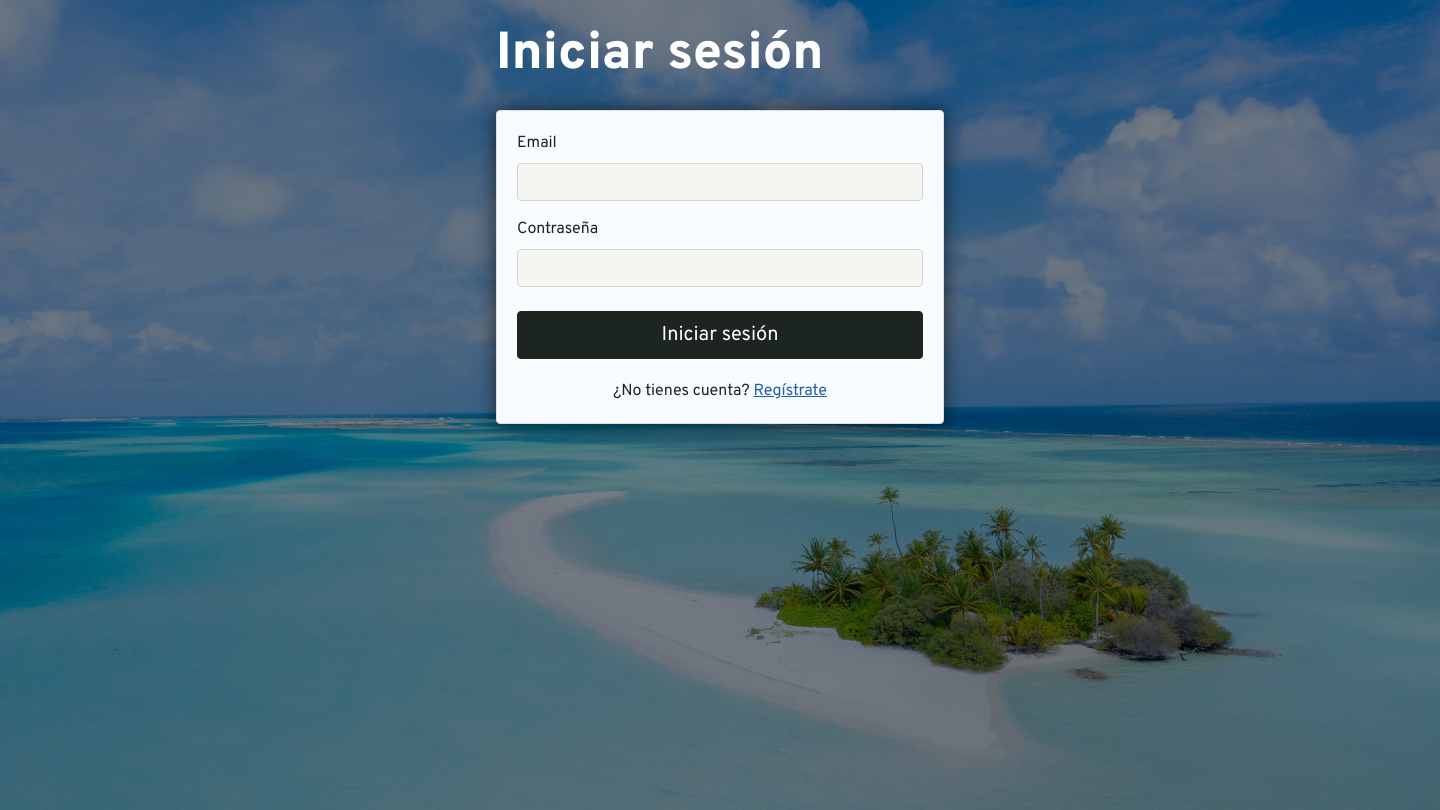
B2 LoginPage › an email without the right format is rejected before sending
Type "ana-sin-arroba" into the field labelled "Email". click: (720, 182)
box: [517, 163, 923, 201]
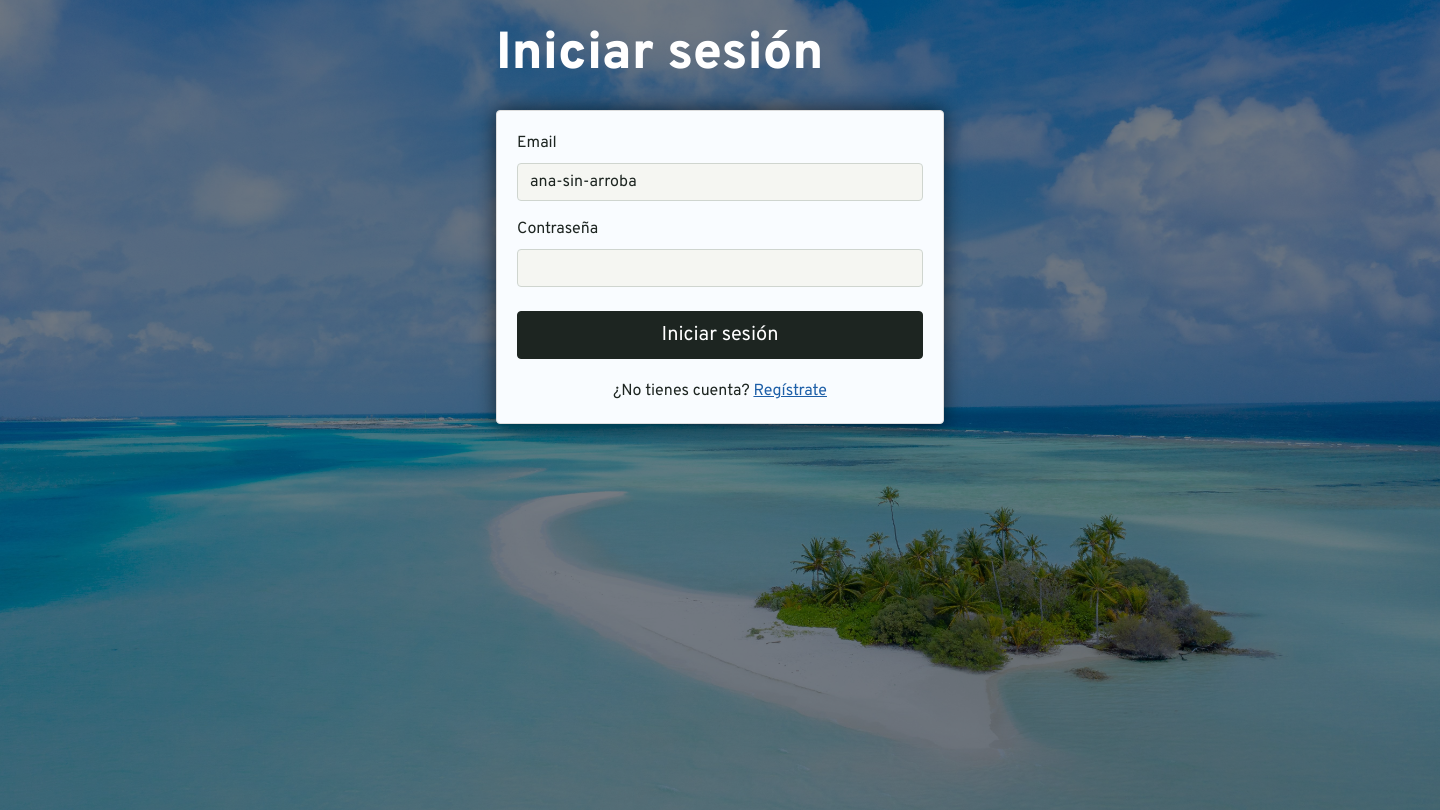
Type "secret-pass" into the password field labelled "Contraseña". click: (720, 268)
box: [517, 249, 923, 287]
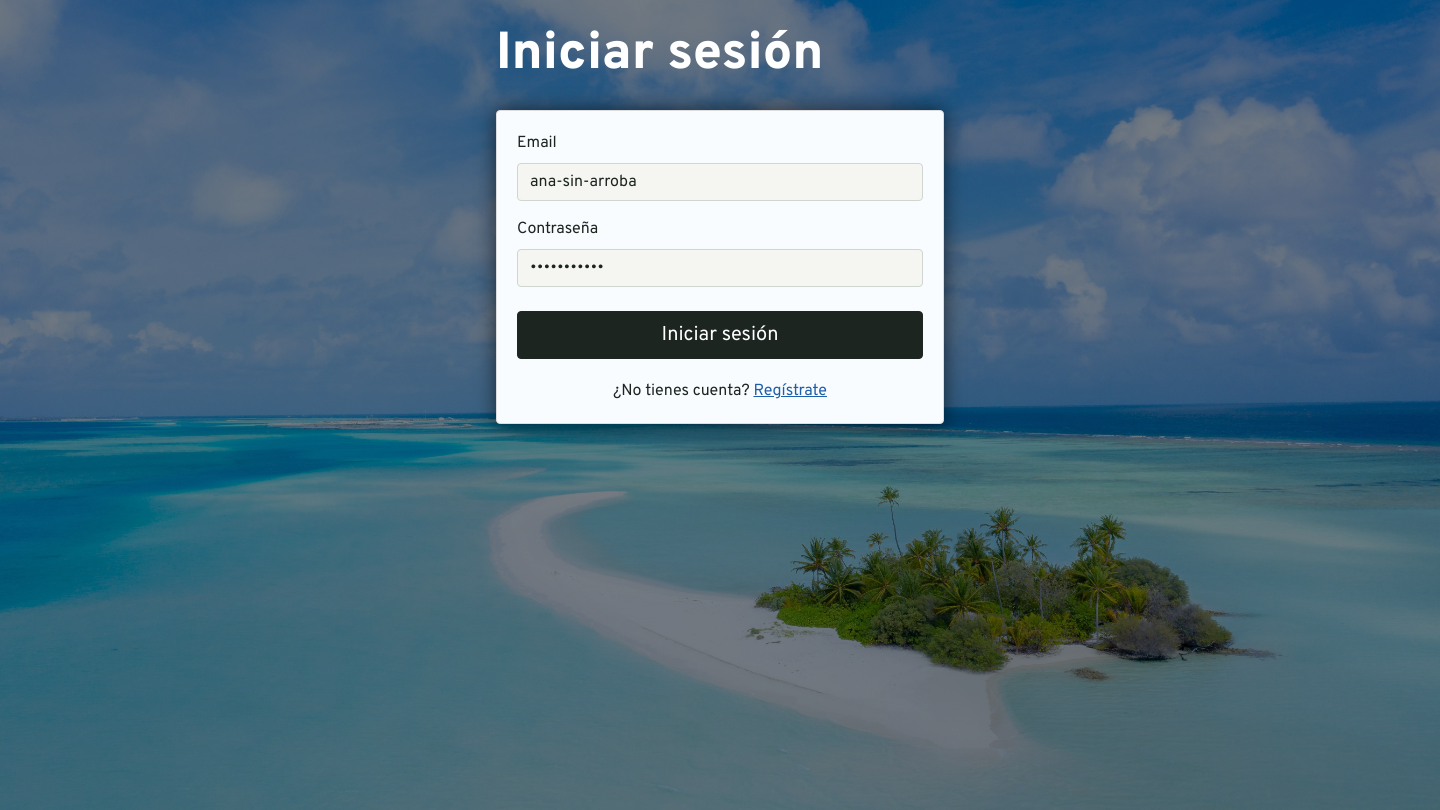
Click the button "Iniciar sesión". click: (720, 335)
box: [517, 311, 923, 359]
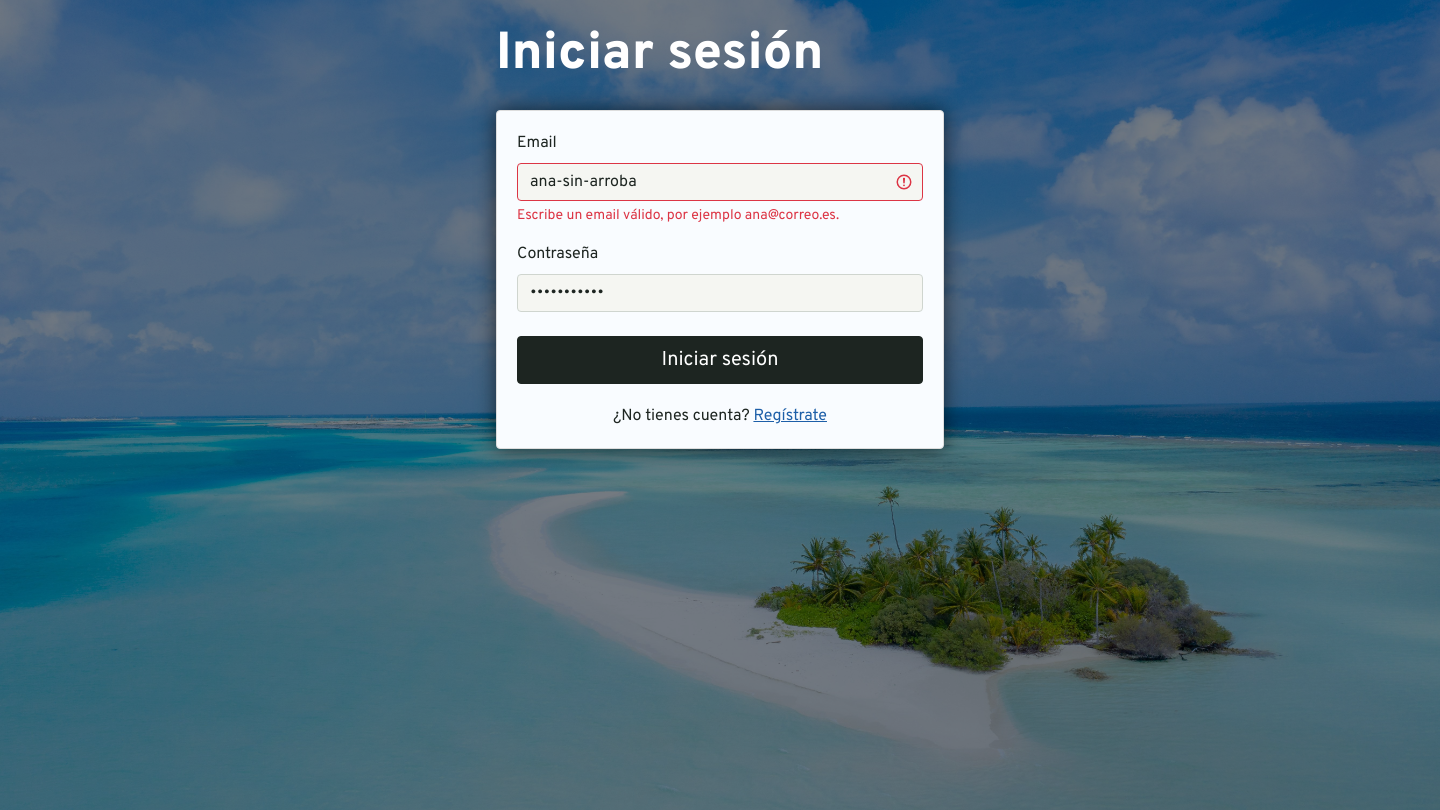
Check: the text "Escribe un email válido, por ejemplo ana@correo.es." is shown, box [517, 207, 839, 224]
